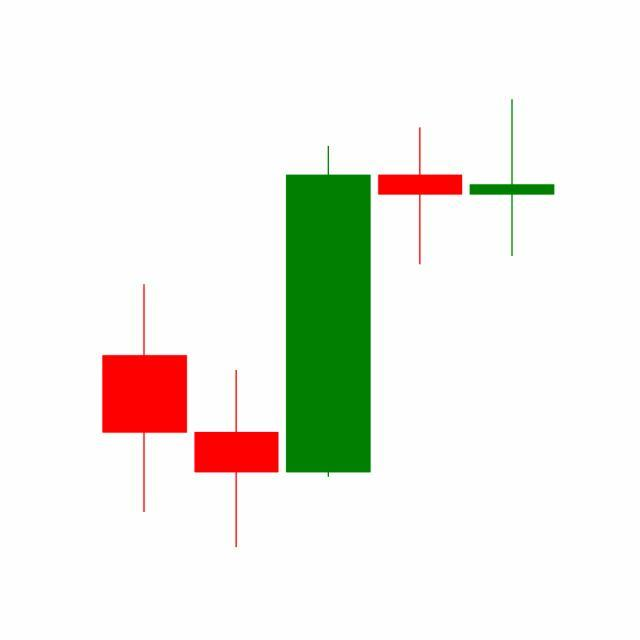Spinning Top: (466, 98, 559, 258)
